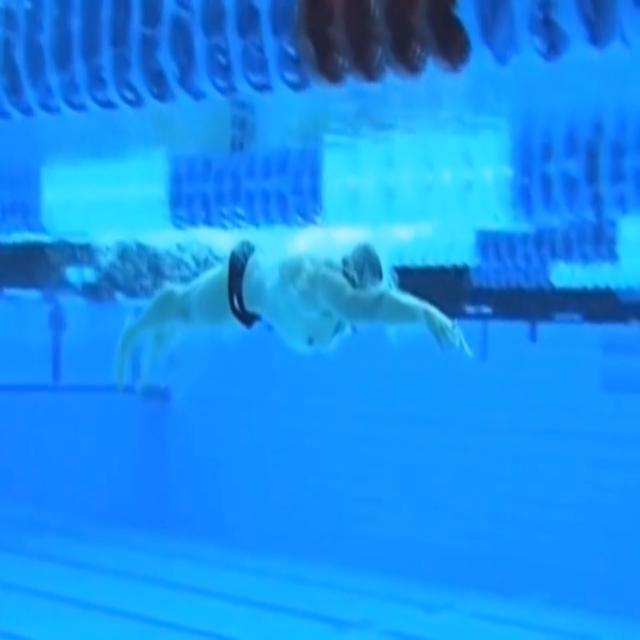Swimming: (114, 236, 474, 391)
